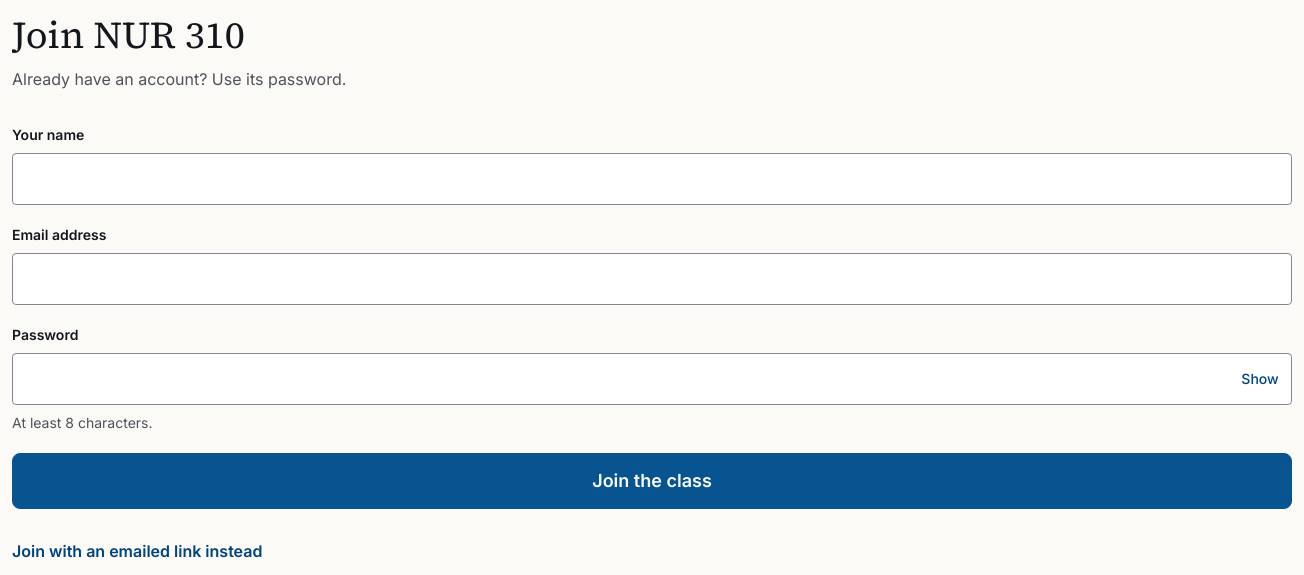
Test: InvitePanel › shows the invite as unavailable when the link stopped working meanwhile
Step 1. Type "Ana Reyes" into the field labelled "Your name" → (652, 179), box [12,153,1292,205]
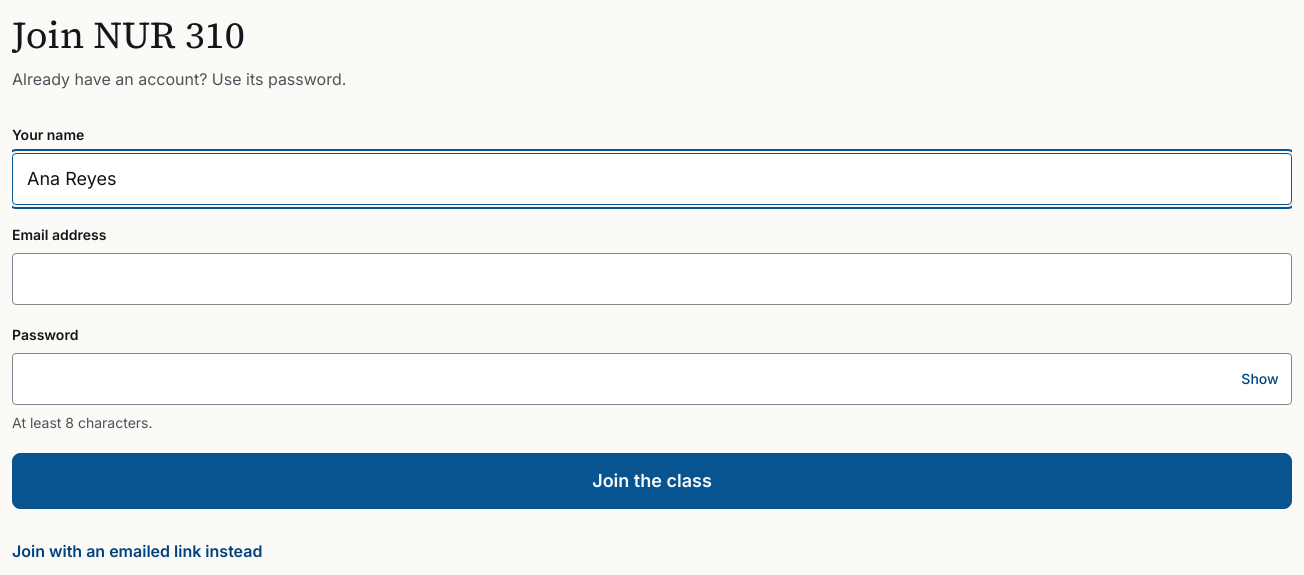
Step 2. Type "a@school.edu" into the field labelled "Email address" → (652, 279), box [12,253,1292,305]
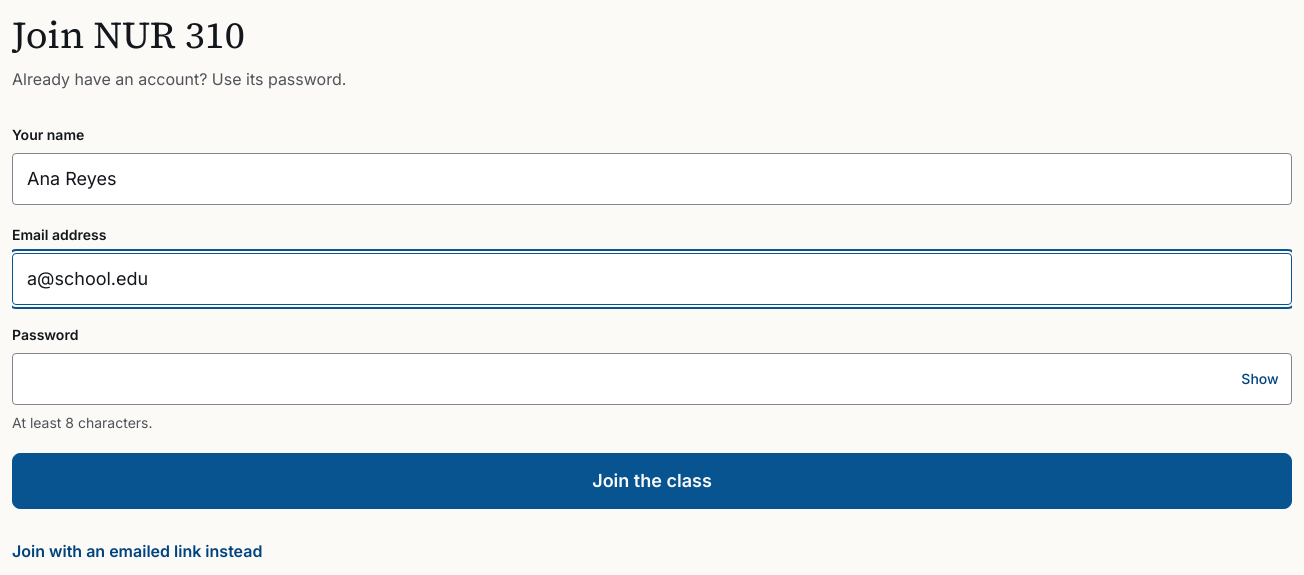
Step 3. Type "correct horse" into the password field labelled "Password" → (652, 379), box [12,353,1292,405]
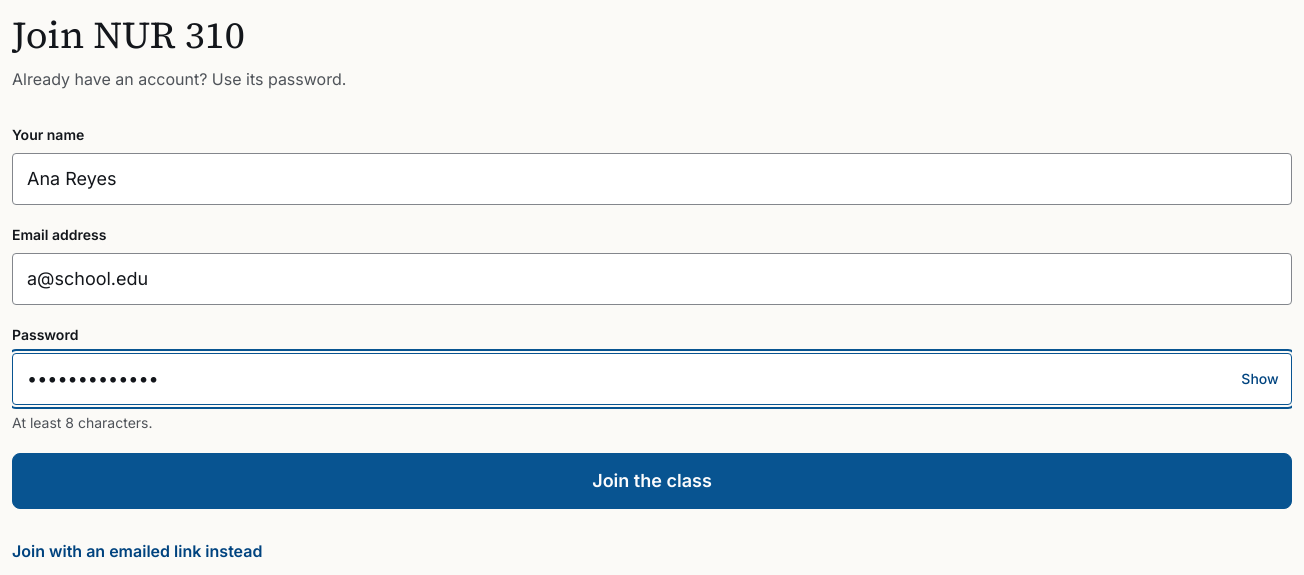
Step 4. Click the button "Join the class" → (652, 481), box [12,453,1292,509]
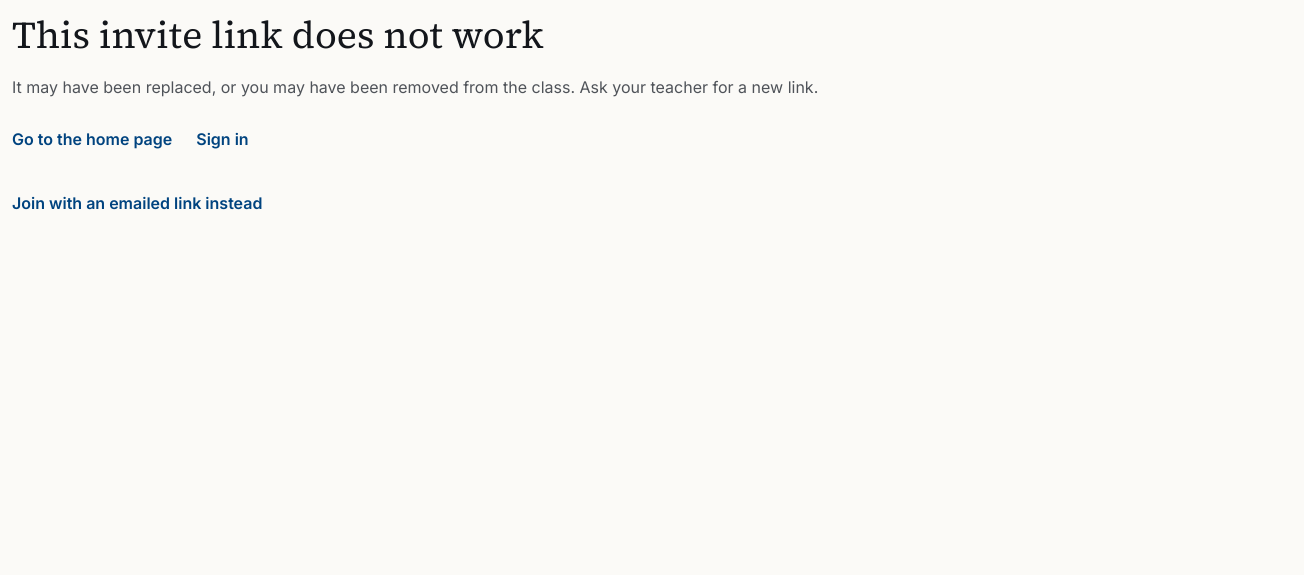
Check: the button "Join the class" is gone
